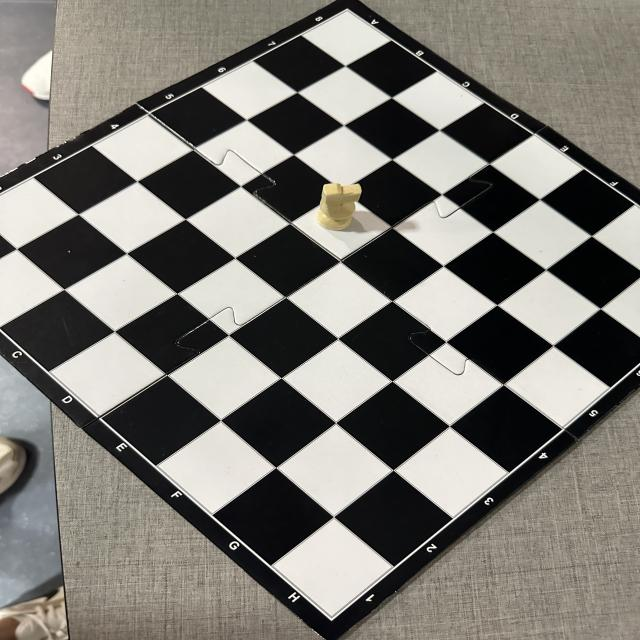White-Knight: (316, 183, 362, 231)
